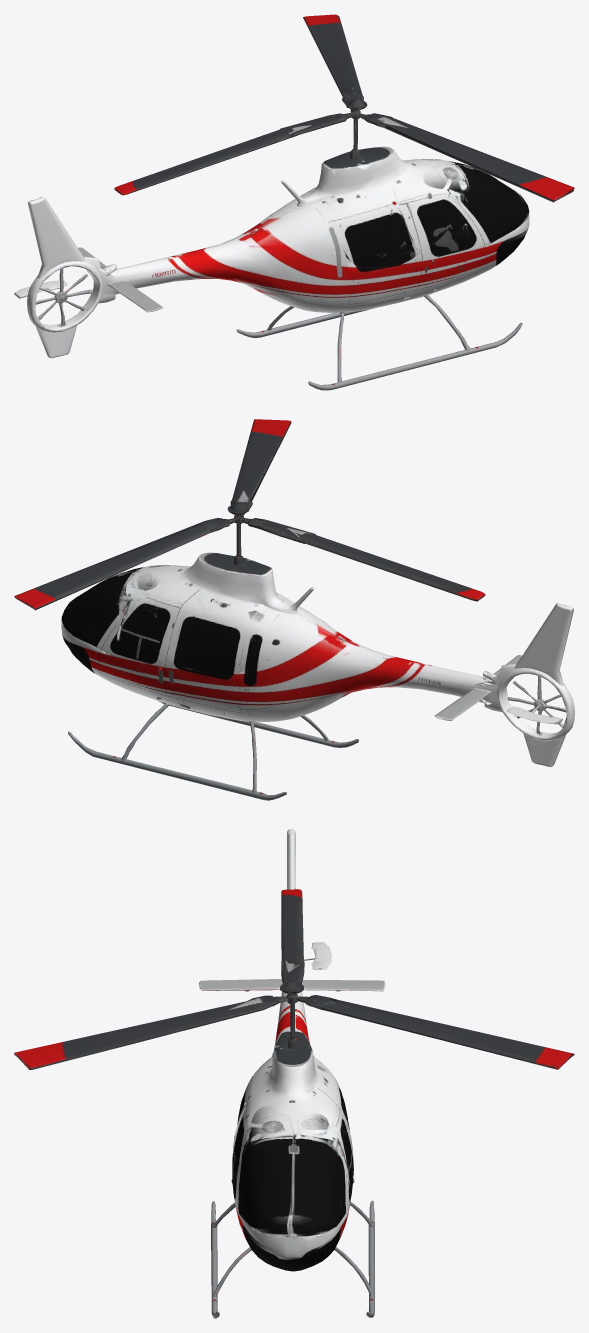
The model's file is helicopter.glb.
3 renders of one model, top to bottom at view 1: azimuth 30°, elevation 25°; view 2: azimuth 150°, elevation 25°; view 3: azimuth 270°, elevation 25°, orthographic. The views are drawn at different scales.
Parts seen in each view (by area): view 1: body, rotor-main; view 2: body, rotor-main; view 3: body, rotor-main.
Boxes of the visible parts, x1,y1,x2,y2 form: body: (14, 146, 529, 390); rotor-main: (114, 14, 574, 202); body: (61, 552, 574, 800); rotor-main: (14, 419, 485, 610); body: (199, 829, 385, 1318); rotor-main: (14, 889, 574, 1069).
Size of the model in its own units: 7.6 by 3.67 by 6.69.
1 material, 1 textured.
